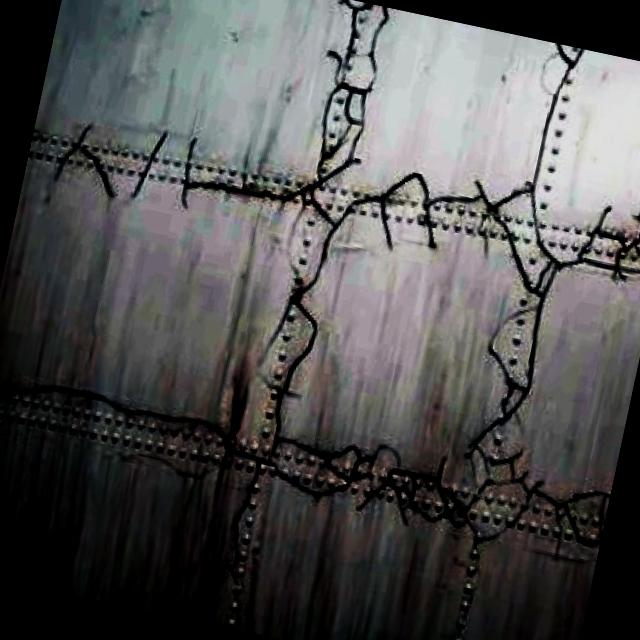crack: (36, 86, 640, 314), (0, 358, 611, 566), (204, 0, 399, 595), (442, 42, 602, 536)
